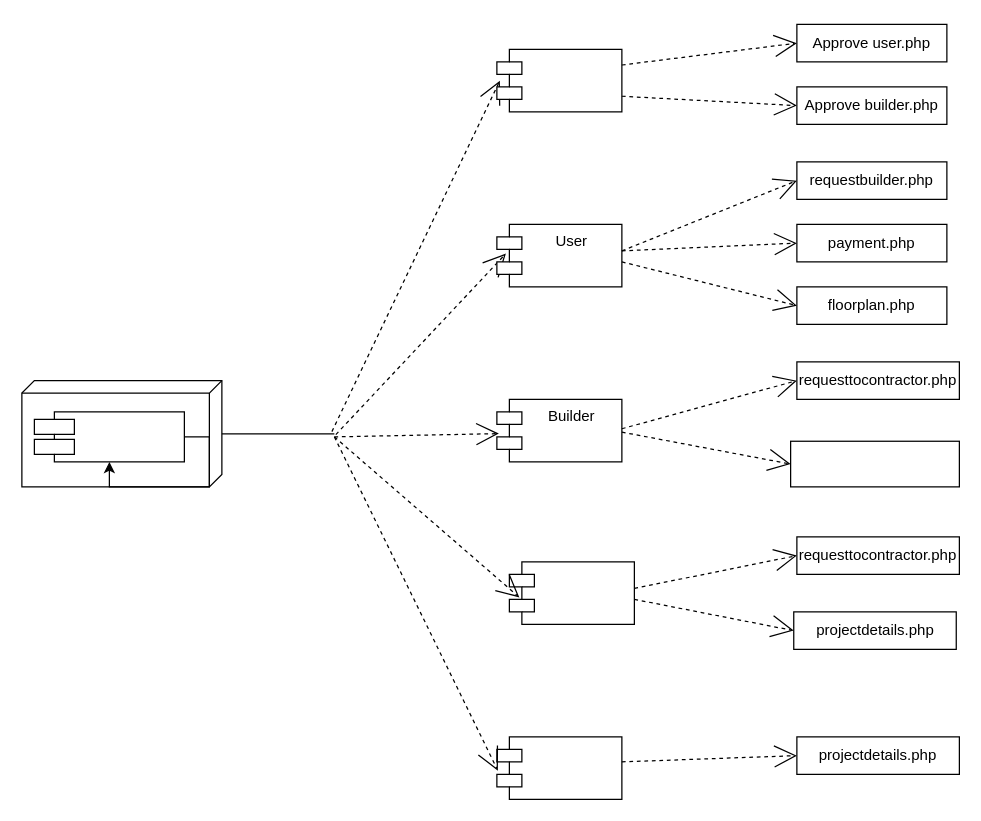
The diagram is 981 pixels wide and 821 high, and some of its shapes have lost their labels. Here are the shapes that lost their labels. From the top down, the centre of each, then its label:
At (x=559, y=80): "Admin".
At (x=108, y=436): "Dream home".
At (x=874, y=463): "view project details".
At (x=571, y=592): "Contractor".
At (x=559, y=767): "Module".
